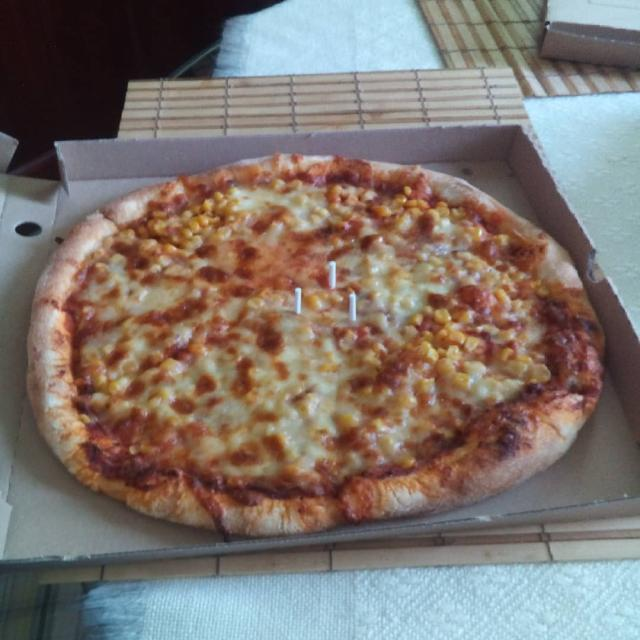pizza: (21, 150, 608, 538)
